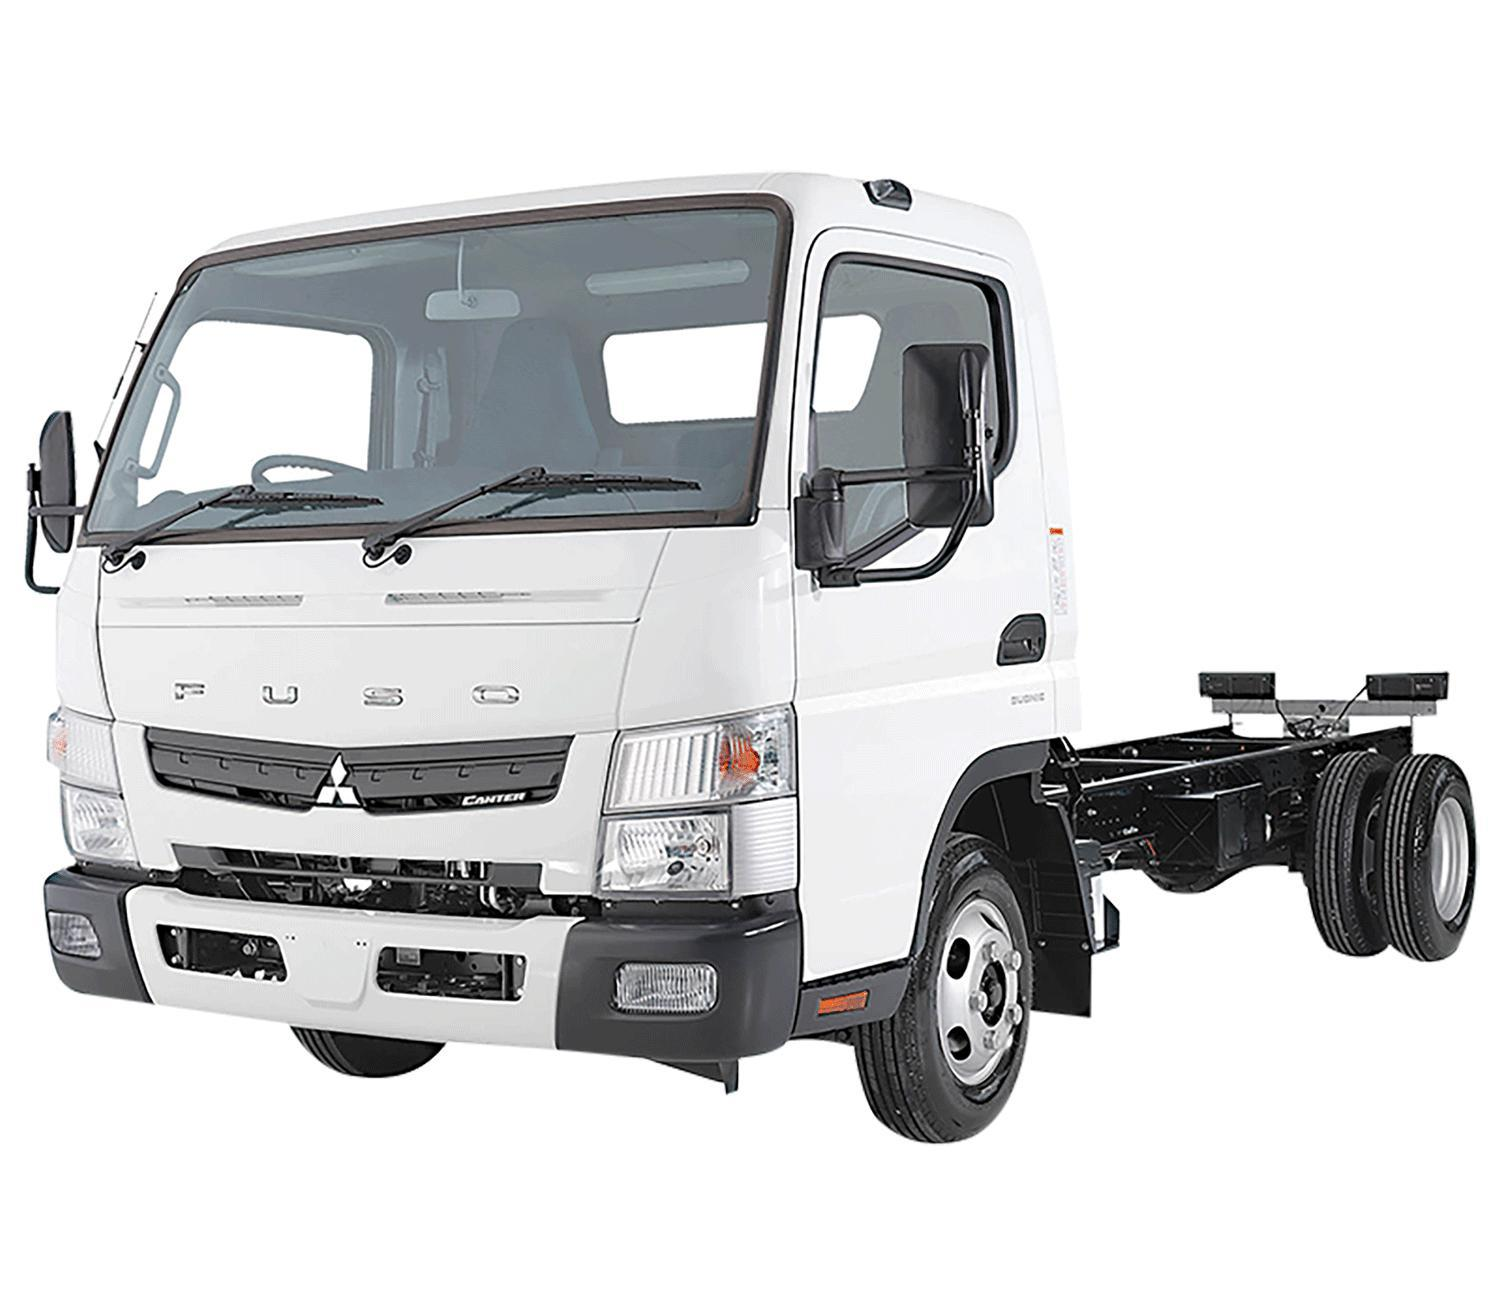truck: (11, 170, 1473, 1140)
